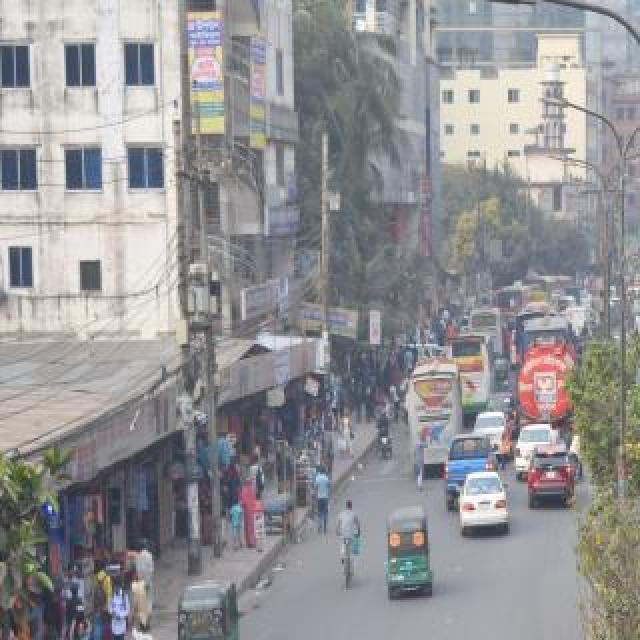bus: (408, 357, 462, 465), (449, 332, 495, 412), (467, 305, 505, 357), (521, 316, 573, 346), (514, 301, 556, 329), (495, 284, 533, 308), (630, 296, 640, 378), (532, 276, 558, 300)
car: (459, 469, 511, 535), (528, 442, 576, 510), (514, 423, 552, 469), (474, 412, 508, 454), (487, 392, 521, 430)
motorbike: (375, 407, 395, 459)
truck: (517, 339, 581, 429), (622, 390, 640, 490)
van: (444, 434, 498, 496), (563, 307, 591, 331)
